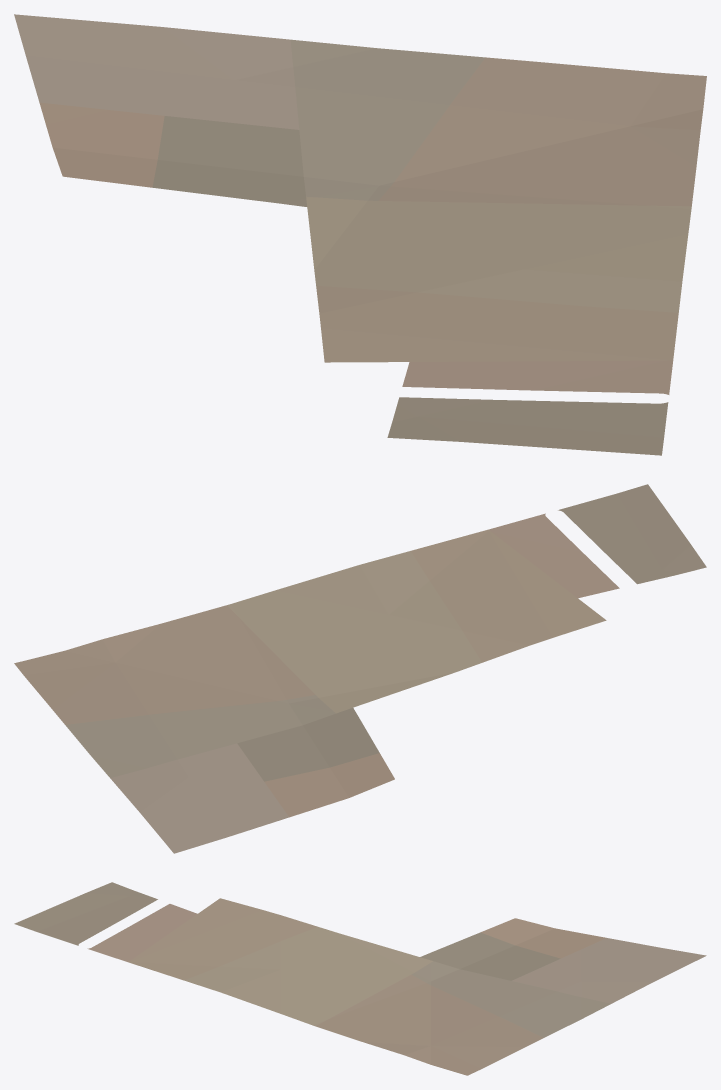
File: farm_-27_-23_soil.glb
3 views of the same model, one above another, from view 1: azimuth 30°, elevation 25°; view 2: azimuth 150°, elevation 25°; view 3: azimuth 270°, elevation 25° (orthographic). The views are drawn at different scales.
Parts seen in each view (by area): view 1: geometry_0; view 2: geometry_0; view 3: geometry_0.
Part boxes in pixels (bbox=[...]): geometry_0: bbox=[14, 14, 706, 455]; geometry_0: bbox=[14, 484, 706, 853]; geometry_0: bbox=[14, 882, 706, 1075].
Bounding box in the file's own units: 211 × 17.66 × 368.
